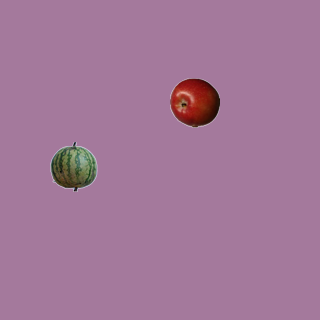Apple Braeburn: (169, 77, 219, 127)
Watermelon: (48, 141, 98, 191)
